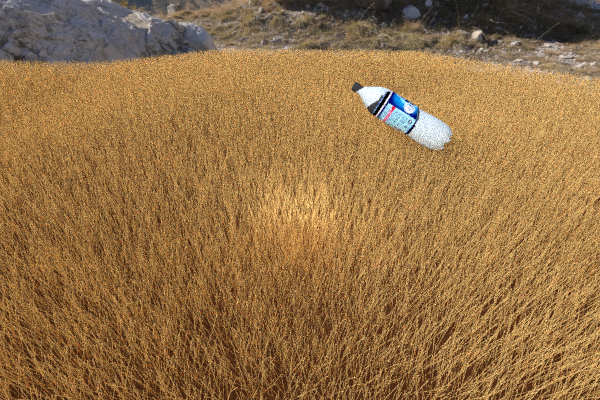bottle: (351, 82, 452, 150)
